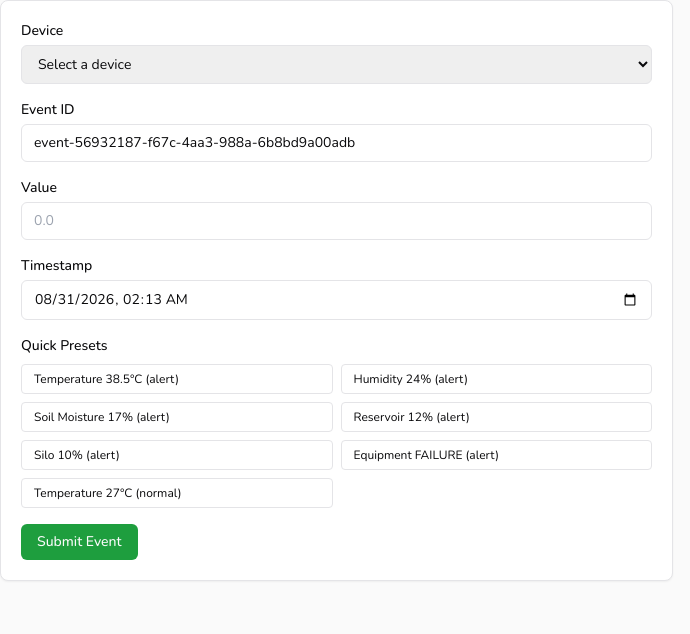
SimulatorForm › preset fills form but does not submit
Click the first preset
Click the button "Temperature 38.5°C (alert)". click: (177, 379)
box: [21,364,332,394]
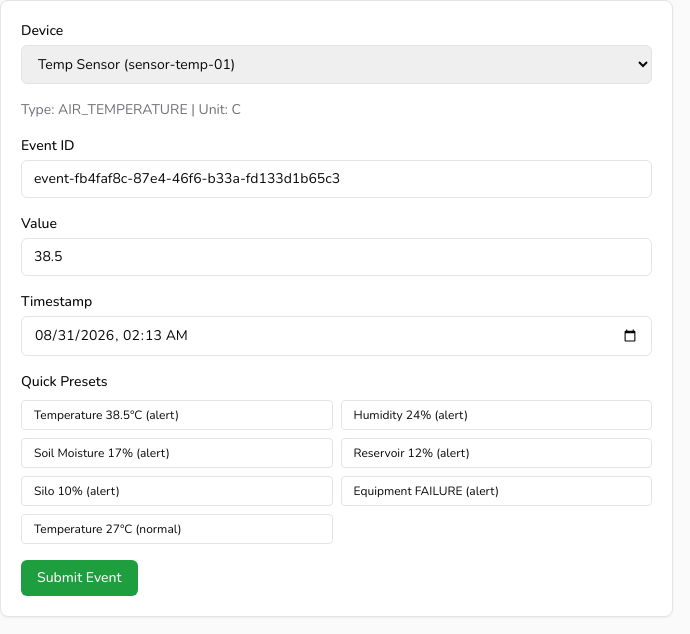
Expected: the dropdown labelled "Device" shows "Temp Sensor (sensor-temp-01)", [21,45,652,84]
Expected: the number field labelled "Value" holds "38.5", [21,238,652,276]
